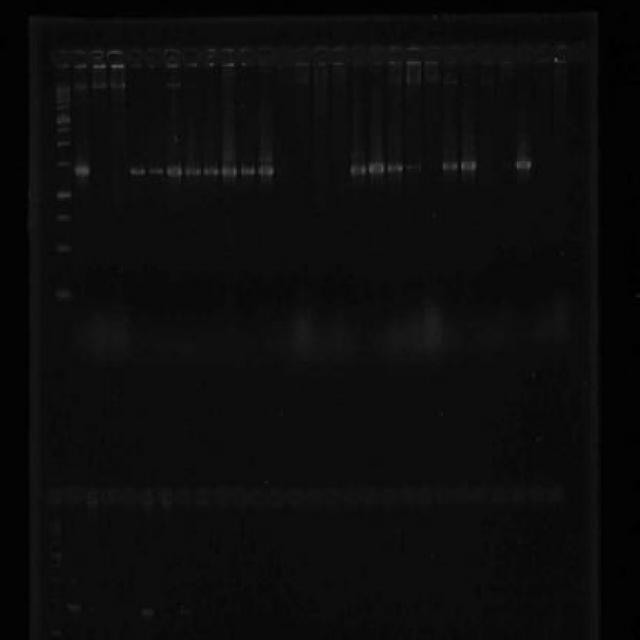B: (440, 156, 458, 172), (220, 162, 238, 178), (256, 163, 275, 177), (183, 163, 202, 177), (514, 157, 534, 170), (368, 160, 384, 176), (460, 158, 478, 172), (128, 163, 146, 177), (238, 164, 256, 178), (386, 160, 403, 174), (203, 162, 220, 176), (350, 162, 367, 176), (165, 164, 182, 178), (73, 164, 92, 176), (148, 163, 164, 177)
L: (46, 34, 574, 76)
M: (50, 86, 78, 309)
P: (56, 287, 73, 301), (56, 188, 72, 200), (55, 114, 71, 125), (56, 138, 72, 148), (56, 243, 72, 252), (55, 104, 71, 112), (57, 213, 71, 222), (56, 98, 70, 104), (56, 126, 70, 132), (58, 161, 72, 167), (56, 94, 70, 98)
Pc: (50, 45, 70, 73), (368, 42, 386, 70), (274, 45, 294, 70), (515, 40, 534, 66), (70, 47, 90, 71), (162, 46, 181, 71), (182, 45, 201, 70), (144, 44, 162, 70), (312, 44, 330, 70), (478, 42, 496, 68), (106, 47, 125, 71), (257, 43, 274, 69), (89, 46, 108, 69), (218, 46, 237, 69), (405, 44, 423, 68), (534, 42, 552, 66), (349, 43, 366, 68), (126, 48, 145, 70), (237, 46, 256, 68), (294, 44, 310, 70), (331, 43, 347, 69), (497, 42, 514, 66), (202, 45, 218, 70), (441, 43, 457, 68), (386, 44, 403, 67), (424, 44, 441, 67), (553, 42, 569, 66), (460, 42, 474, 67)
